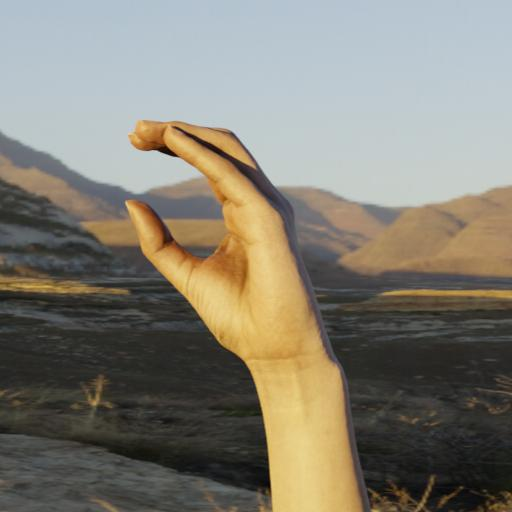C: (116, 112, 324, 379)
